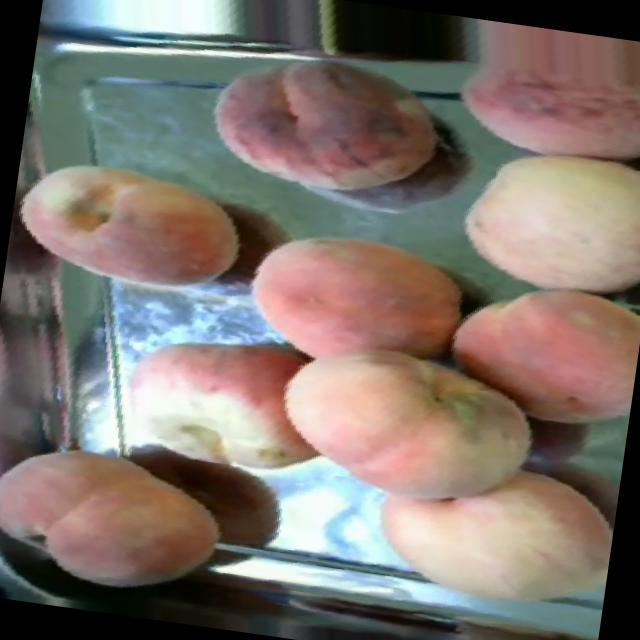Fruit: (252, 316, 560, 534), (354, 435, 622, 638), (190, 36, 465, 228), (0, 405, 244, 619), (2, 136, 264, 318), (230, 204, 492, 380), (421, 271, 640, 453), (420, 13, 640, 178), (438, 138, 640, 312)
